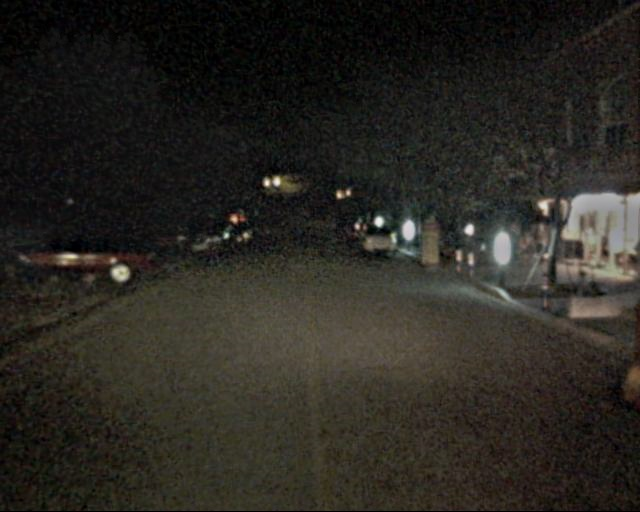person: (531, 221, 552, 273), (503, 221, 524, 273)
